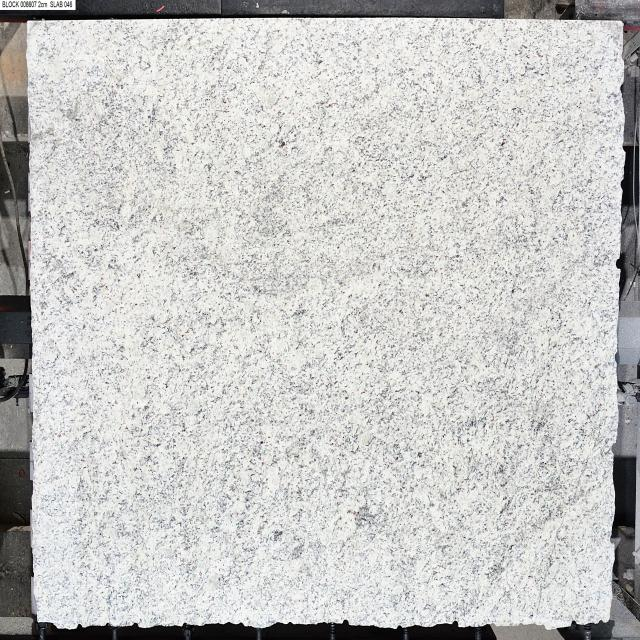chapa: (28, 18, 624, 628)
veio: (614, 253, 622, 273)
